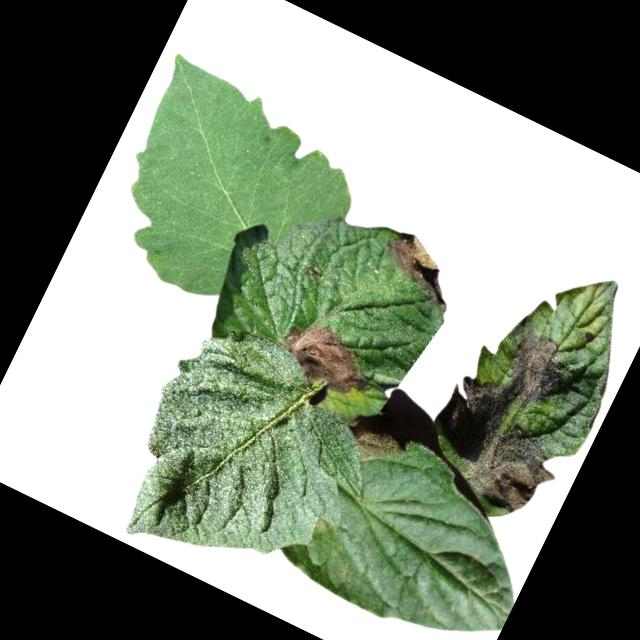Late_blight: (412, 366, 582, 527), (271, 310, 387, 407), (484, 311, 583, 412), (369, 225, 468, 311), (338, 416, 406, 474), (297, 262, 322, 284)
